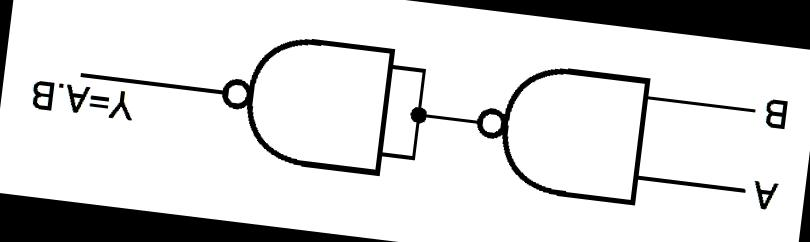nand: (454, 39, 666, 216), (202, 15, 410, 186)
